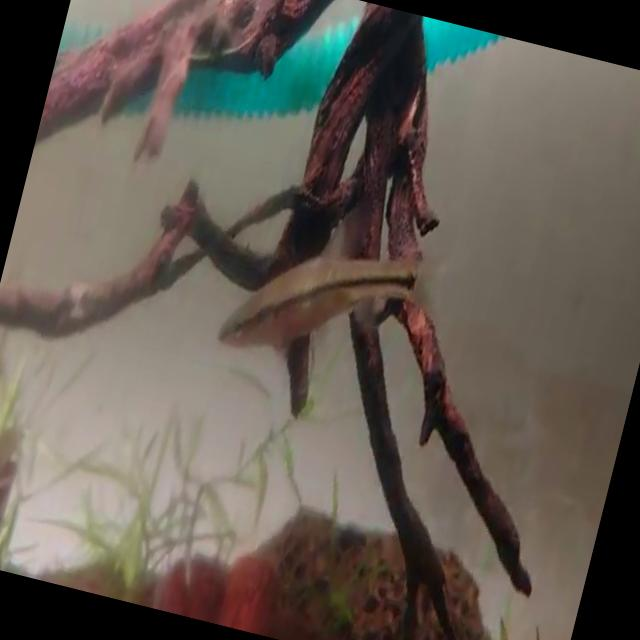Cakil Baligi: (214, 189, 446, 383)
